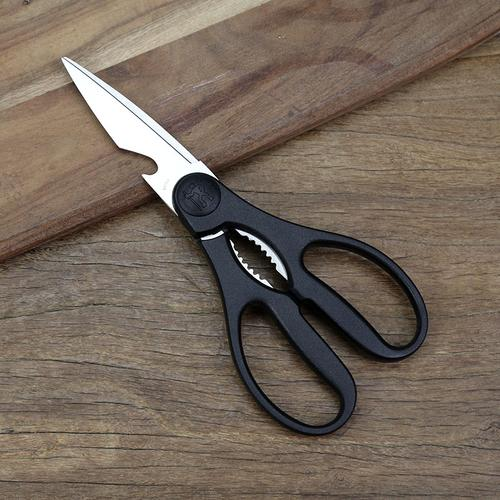scissor: (58, 52, 430, 437)
